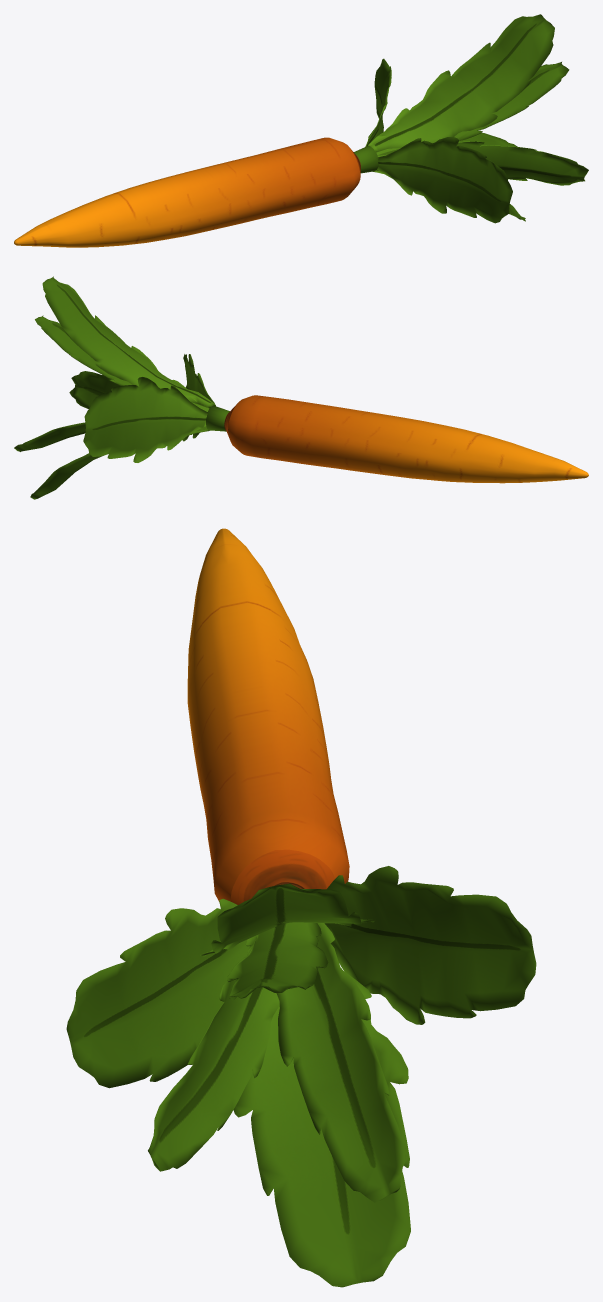
The model's file is carrot_dynamic.obj.
3 renders of one model, top to bottom at view 1: azimuth 30°, elevation 25°; view 2: azimuth 150°, elevation 25°; view 3: azimuth 270°, elevation 25°, orthographic. The views are drawn at different scales.
Bounding box in the file's own units: 0.8157 × 0.296 × 0.3066.
3 materials, 3 textured.
